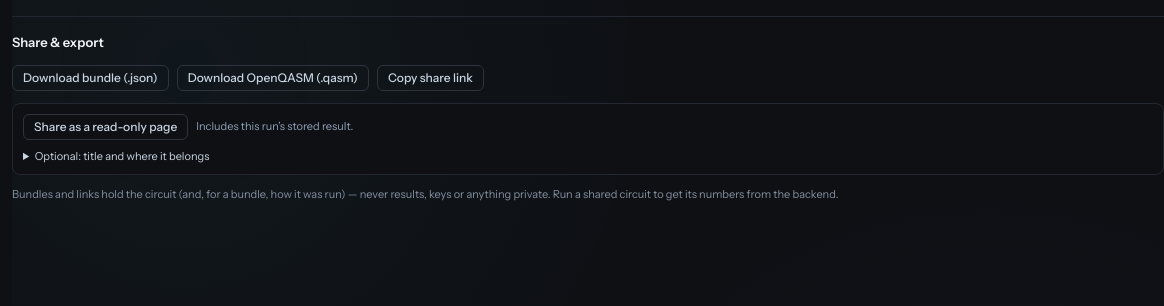
Test: sharing from the Lab › sends the circuit and the run’s id, never a number, and shows the page link
Expected: the text "Includes this run’s stored result." is shown, [196,118,353,135]
Click the button "Share as a read-only page": click(106, 126) [23,114,188,140]
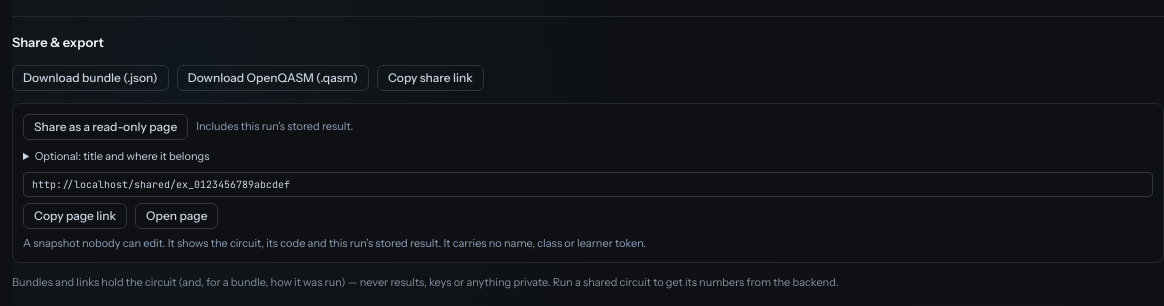
Result: the element with test id "share-page-result" shows "carries no name, class or learner token" at [23,236,646,250]
